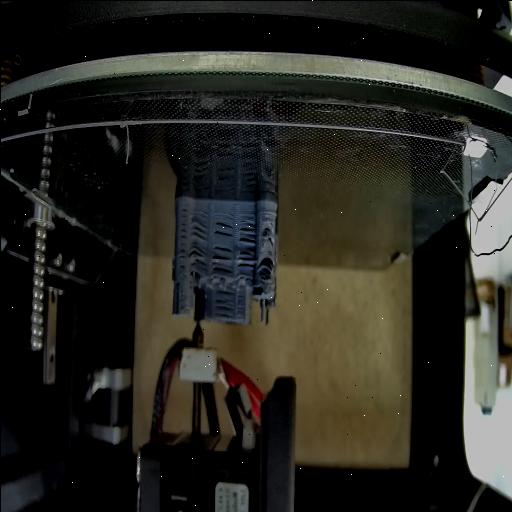cracks: (238, 212, 258, 244), (177, 206, 187, 268), (213, 290, 236, 316), (212, 244, 234, 271), (214, 212, 234, 236), (191, 218, 207, 244), (236, 250, 254, 272), (188, 246, 206, 266), (262, 256, 276, 278), (264, 233, 272, 249), (176, 282, 182, 294)
